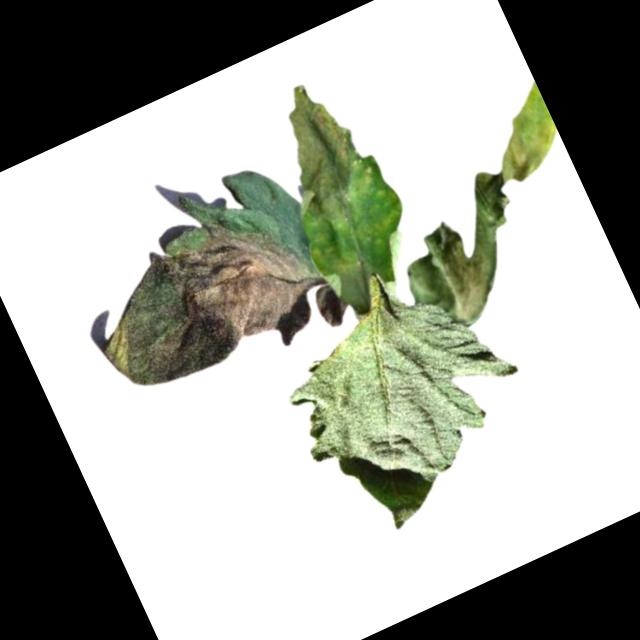Late_blight: (350, 78, 615, 343), (70, 189, 344, 422), (249, 70, 386, 237), (323, 257, 379, 317)
healthy: (253, 237, 556, 550)
